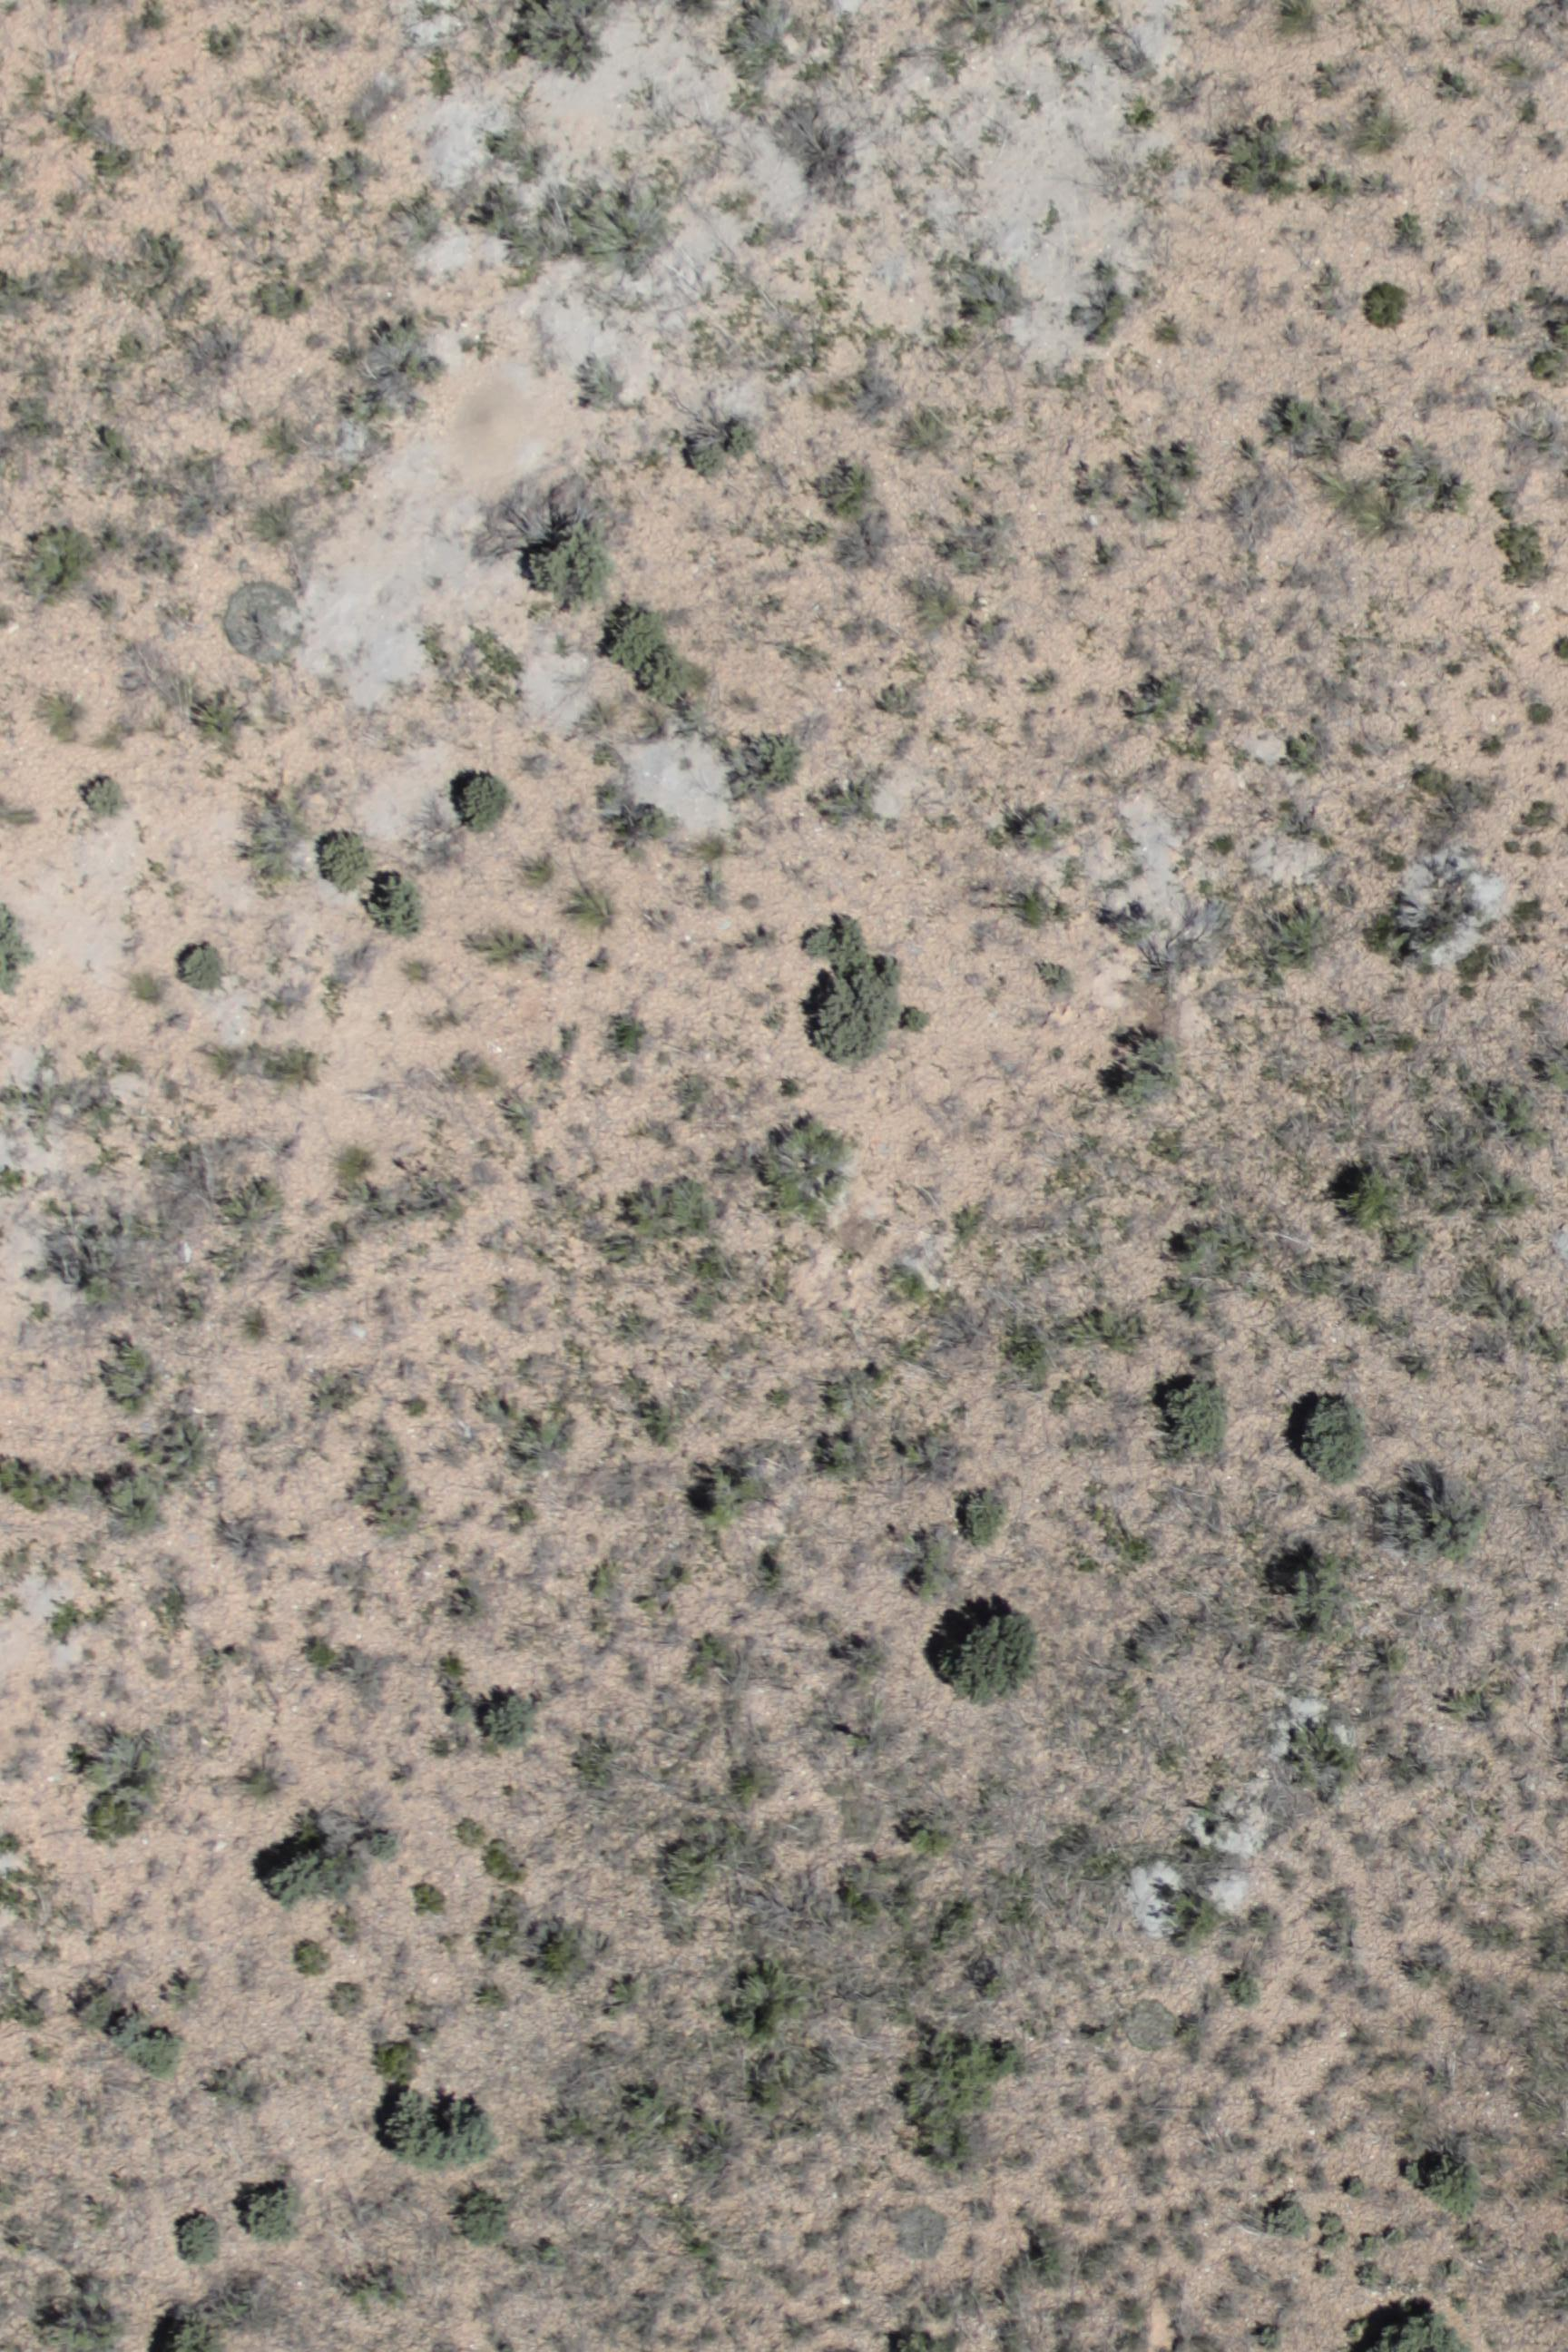burrow: (427, 348, 553, 495)
